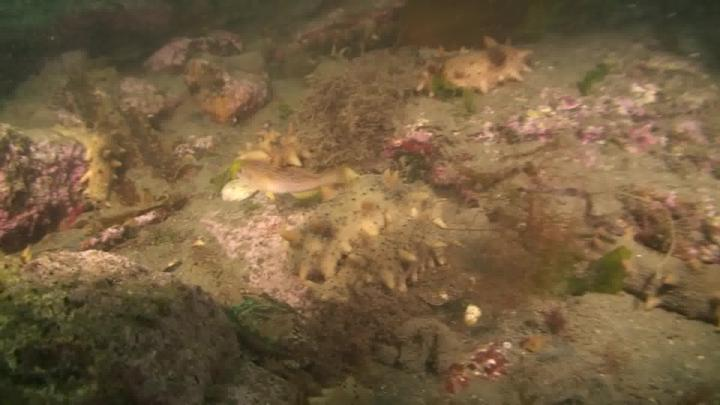holothurian: (281, 169, 418, 280), (586, 230, 720, 326), (355, 210, 463, 296), (439, 38, 537, 100), (58, 124, 128, 202), (238, 126, 313, 166)
scallop: (467, 306, 478, 326)
